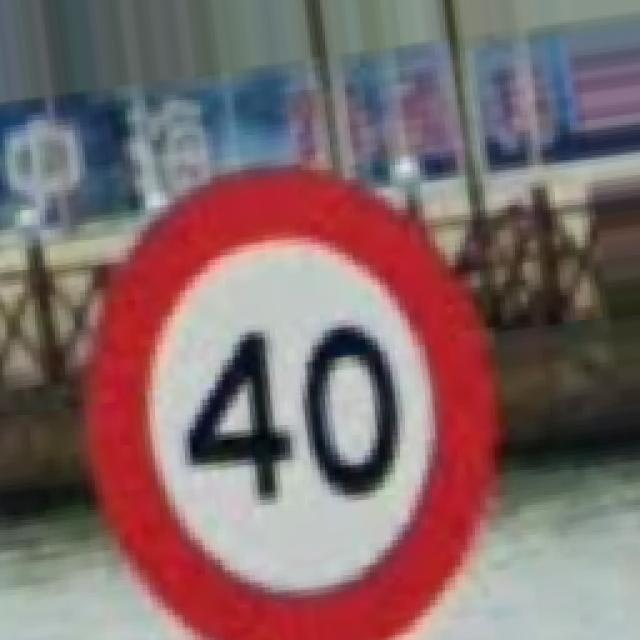Speed Limit -40-: (88, 168, 495, 638)
